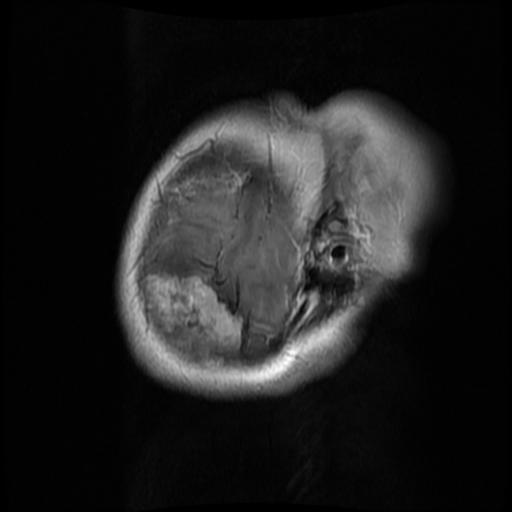meningioma: (143, 273, 243, 360)
